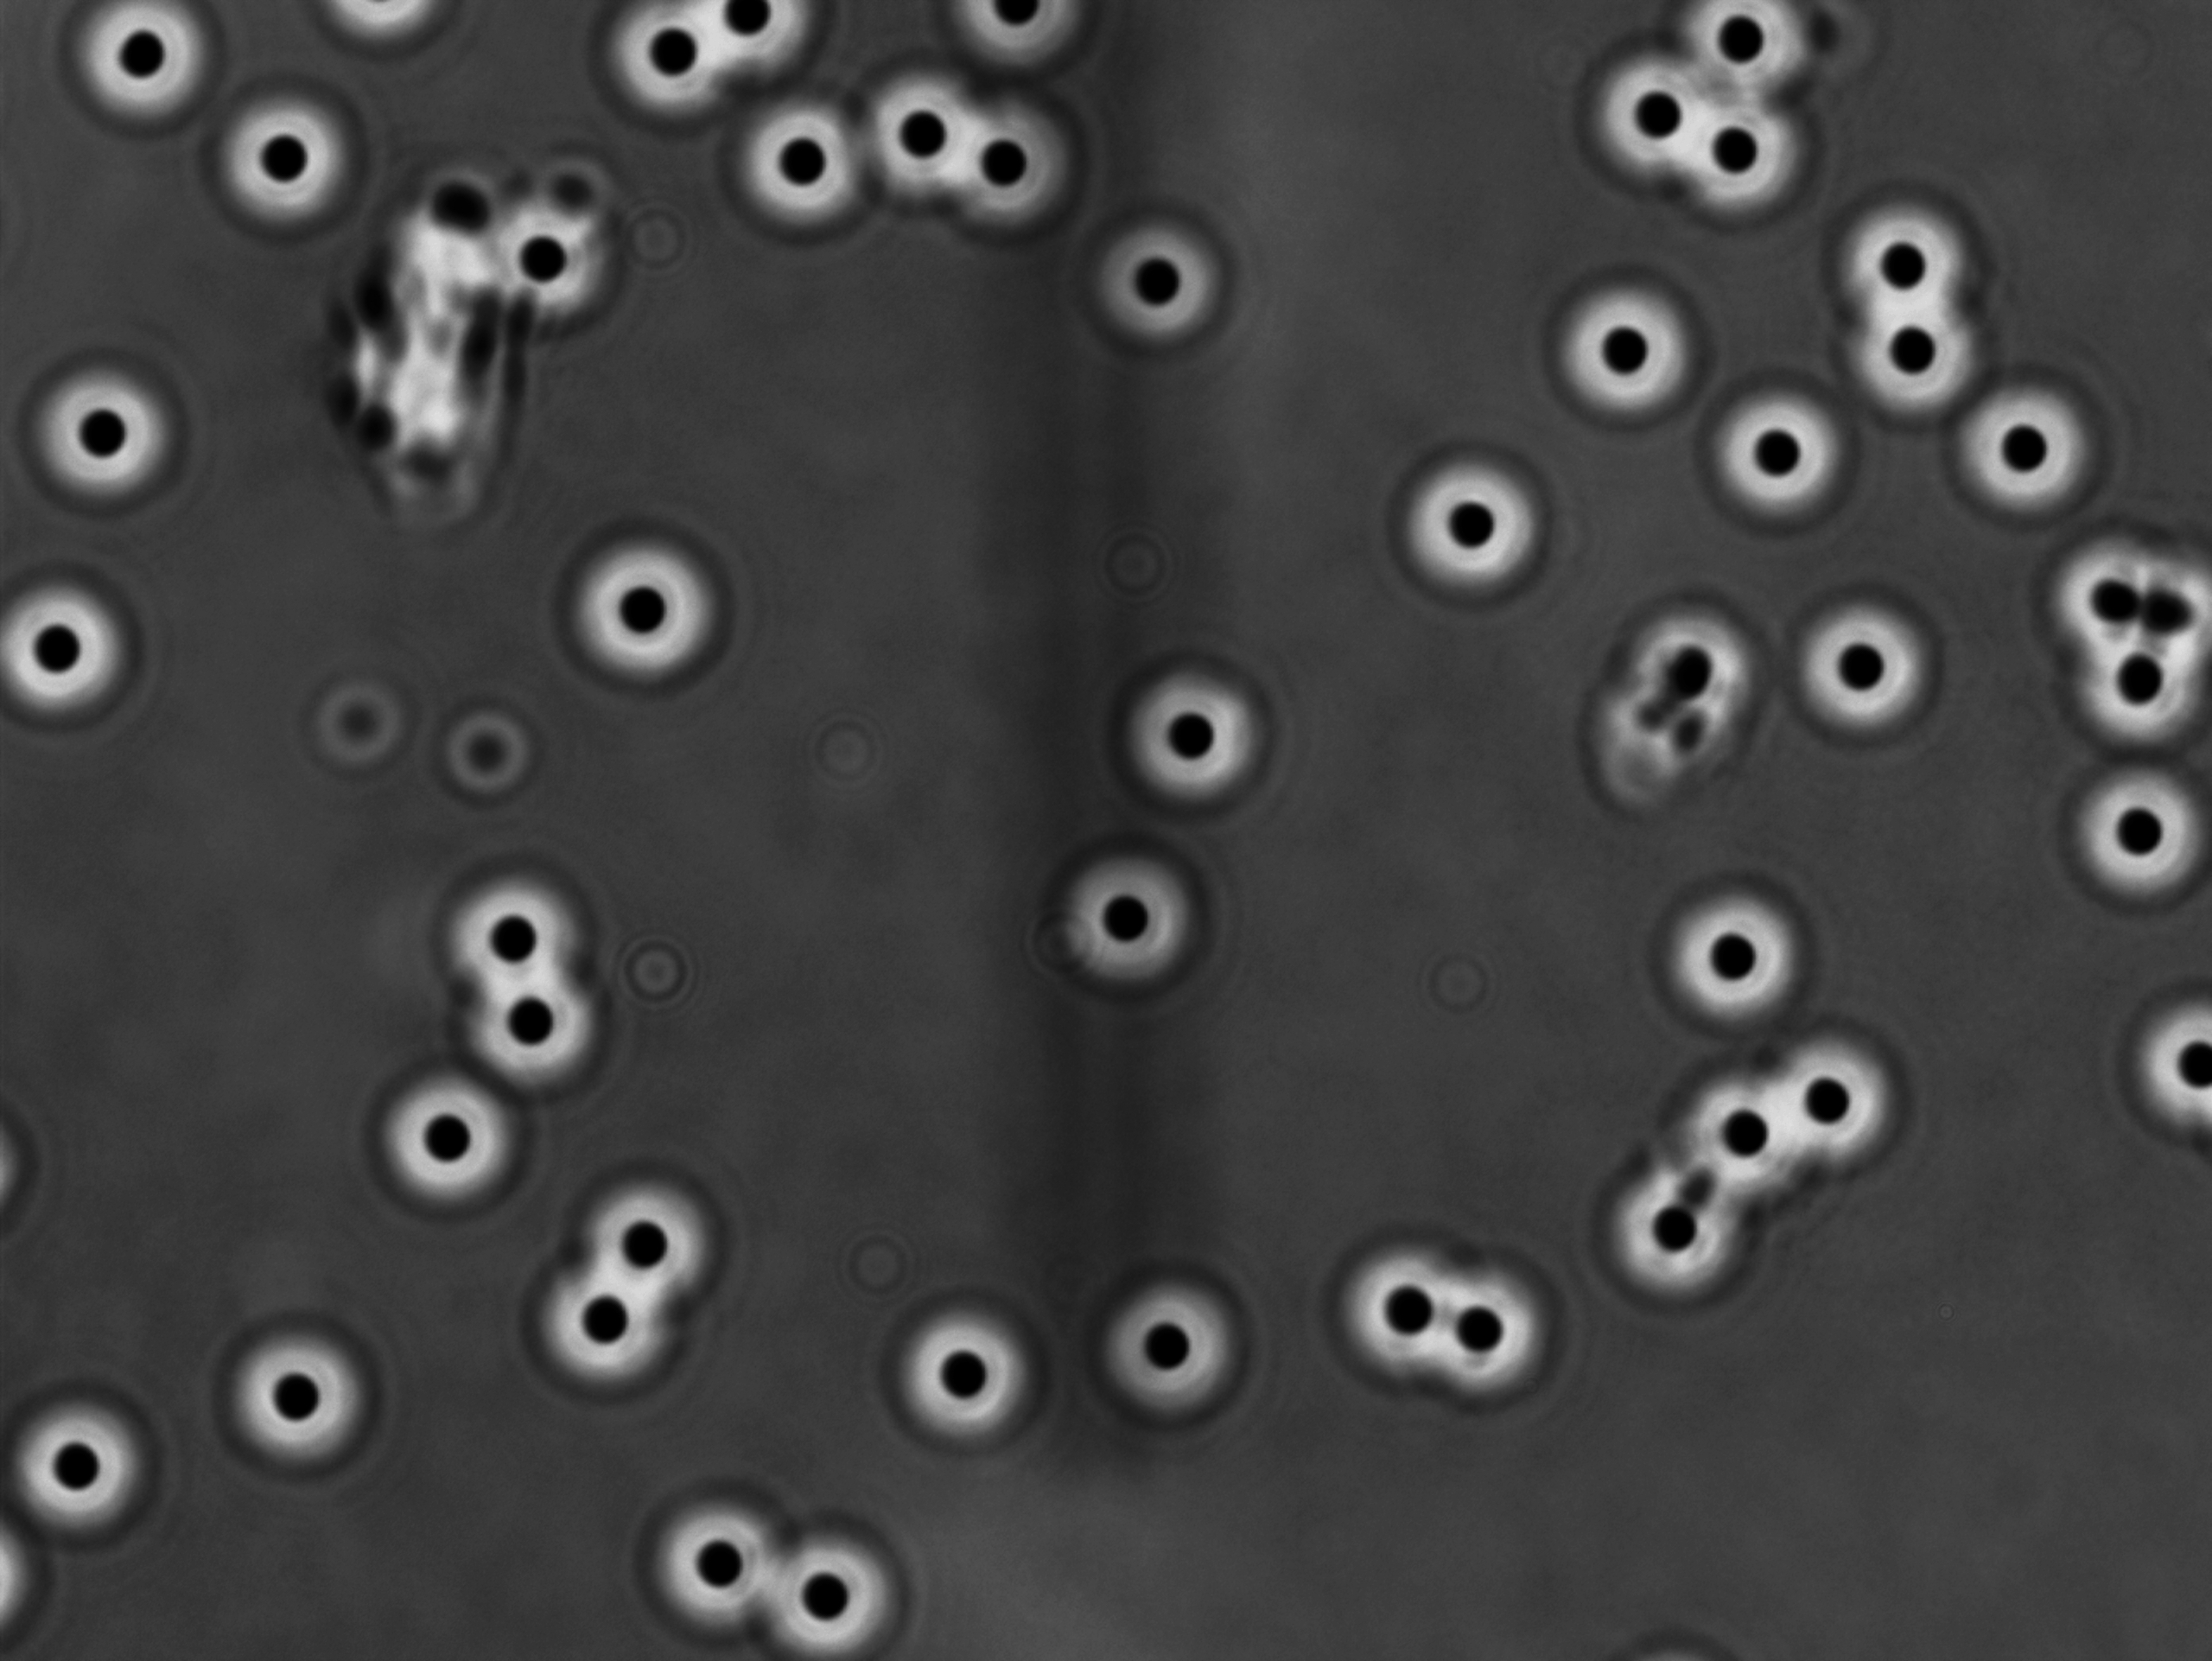depth:-40: (185, 1298, 410, 1500), (1031, 824, 1228, 1014), (1772, 565, 1959, 759), (1926, 363, 2121, 541), (546, 530, 745, 700), (1099, 654, 1282, 836), (21, 330, 194, 522), (1376, 438, 1567, 609), (555, 1145, 741, 1314), (187, 77, 373, 243), (874, 1289, 1055, 1459), (1080, 1265, 1261, 1431), (1075, 194, 1258, 356), (413, 860, 611, 1010), (359, 1054, 534, 1223), (1819, 284, 2008, 440), (1682, 379, 1853, 546), (518, 1239, 686, 1408), (1649, 872, 1818, 1038), (740, 1504, 914, 1661), (1537, 269, 1701, 434), (1825, 192, 2008, 340), (1418, 1251, 1579, 1420), (2045, 757, 2212, 916), (626, 1480, 797, 1633), (462, 956, 635, 1106), (1568, 40, 1729, 195), (846, 56, 998, 218), (720, 98, 886, 246), (952, 101, 1101, 258), (1326, 1227, 1476, 1377), (1662, 79, 1806, 220), (2071, 607, 2212, 747), (2113, 974, 2212, 1148)
